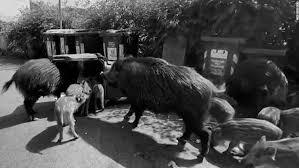wildboar: (97, 53, 216, 161), (53, 92, 93, 145)
